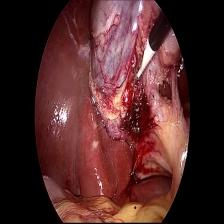Hook: (134, 39, 155, 81)
